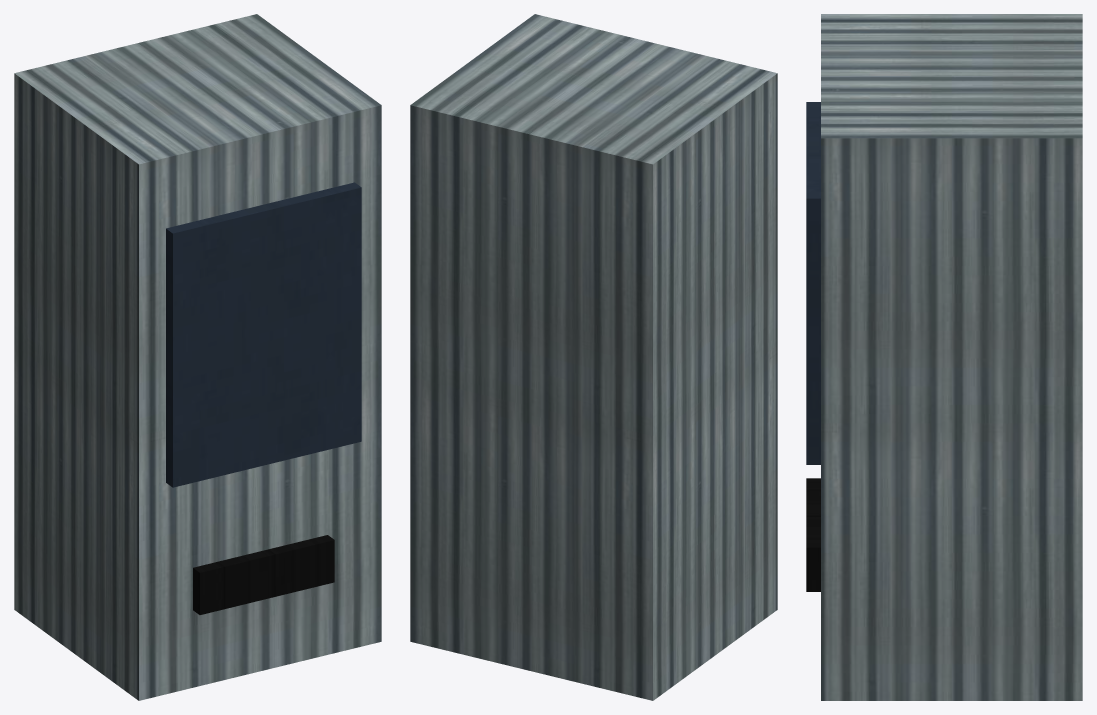
The model's file is vending_machine_01.glb.
3 renders of one model, left to right at view 1: azimuth 30°, elevation 25°; view 2: azimuth 150°, elevation 25°; view 3: azimuth 270°, elevation 25°, orthographic. The views are drawn at different scales.
Parts seen in each view (by area): view 1: vending_machine_01; view 2: vending_machine_01; view 3: vending_machine_01.
Boxes of the visible parts, left/top/right/bottom form: vending_machine_01: left=14, top=14, right=381, bottom=700; vending_machine_01: left=410, top=14, right=777, bottom=700; vending_machine_01: left=806, top=14, right=1082, bottom=700.
Size of the model in its own units: 0.9 by 1.9 by 0.845.
3 materials, 3 textured.
